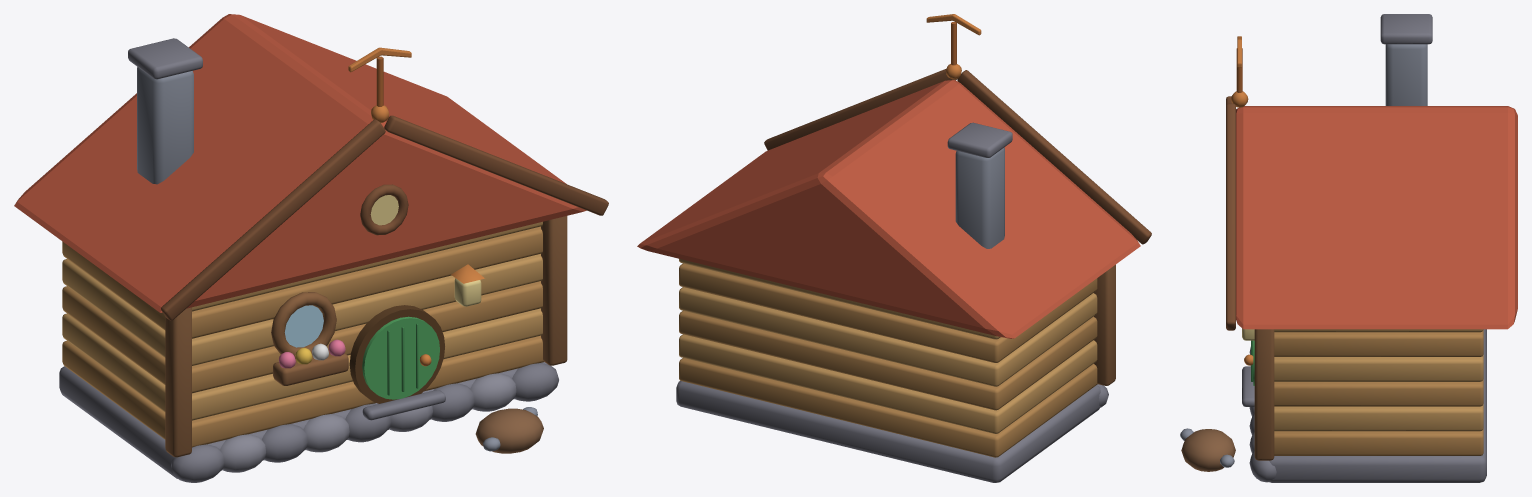
Rendered from cottage1.glb.
3 renders of one model, left to right at view 1: azimuth 30°, elevation 25°; view 2: azimuth 150°, elevation 25°; view 3: azimuth 270°, elevation 25°, orthographic. The views are drawn at different scales.
Visible parts, largest first — view 1: plank-roof, plank-walls, stone-footing, stone-chimney, oak-frame, site, copper-touches; view 2: plank-roof, plank-walls, stone-footing, stone-chimney, oak-frame, copper-touches; view 3: plank-roof, plank-walls, stone-footing, stone-chimney, oak-frame, site, copper-touches.
Boxes of the visible parts, x1,y1,x2,y2 form: plank-roof: [14, 14, 608, 320]; plank-walls: [62, 221, 543, 447]; stone-footing: [59, 362, 558, 482]; stone-chimney: [128, 38, 202, 184]; oak-frame: [165, 216, 567, 457]; site: [475, 407, 543, 453]; copper-touches: [348, 47, 484, 366]; plank-roof: [637, 68, 1151, 338]; plank-walls: [679, 259, 1097, 457]; stone-footing: [676, 380, 1108, 482]; stone-chimney: [947, 122, 1012, 248]; oak-frame: [1094, 264, 1115, 385]; copper-touches: [926, 14, 981, 79]; plank-roof: [1226, 96, 1517, 330]; plank-walls: [1251, 329, 1483, 455]; stone-footing: [1242, 329, 1486, 482]; stone-chimney: [1380, 14, 1432, 105]; oak-frame: [1254, 329, 1274, 460]; site: [1180, 428, 1235, 471]; copper-touches: [1231, 36, 1254, 365].
Size of the model in its own units: 3.75 by 3.36 by 2.72.
